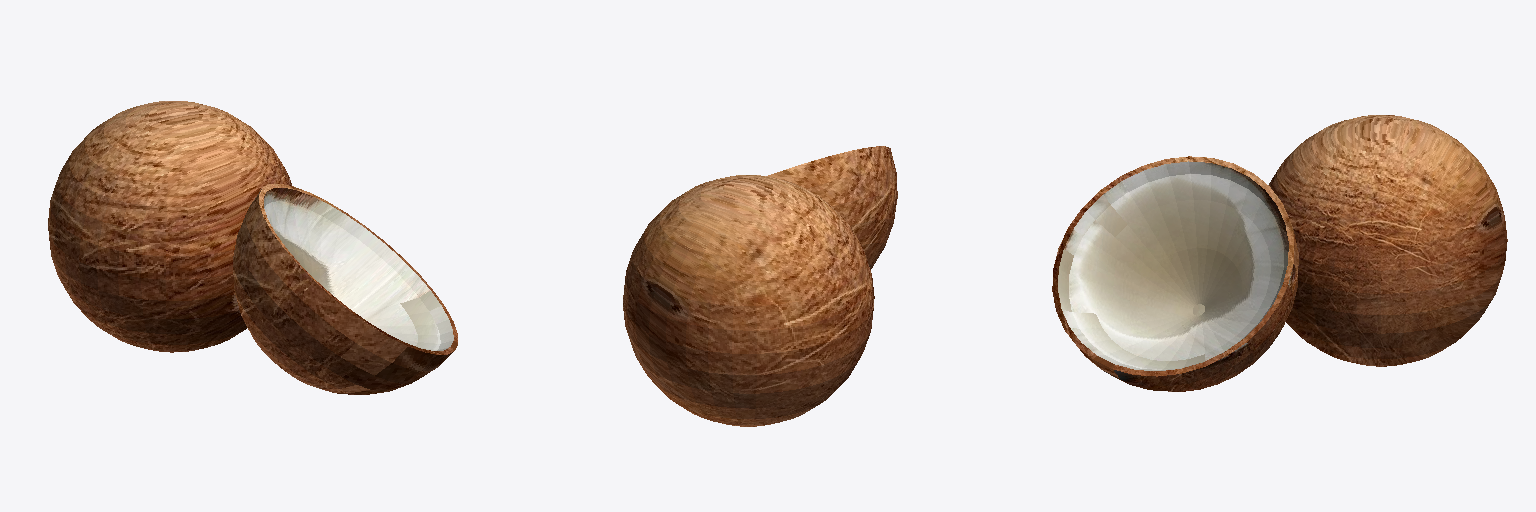
3 views of the same model, side by side, from view 1: azimuth 30°, elevation 25°; view 2: azimuth 150°, elevation 25°; view 3: azimuth 270°, elevation 25° (orthographic).
Parts seen in each view (by area): view 1: Sphere; view 2: Sphere; view 3: Sphere.
Part boxes in pixels (bbox=[...]): Sphere: bbox=[48, 101, 457, 394]; Sphere: bbox=[623, 146, 897, 426]; Sphere: bbox=[1052, 115, 1507, 391].
Bounding box in the file's own units: 5.58 × 4.34 × 7.82.
1 materials, 1 textured.